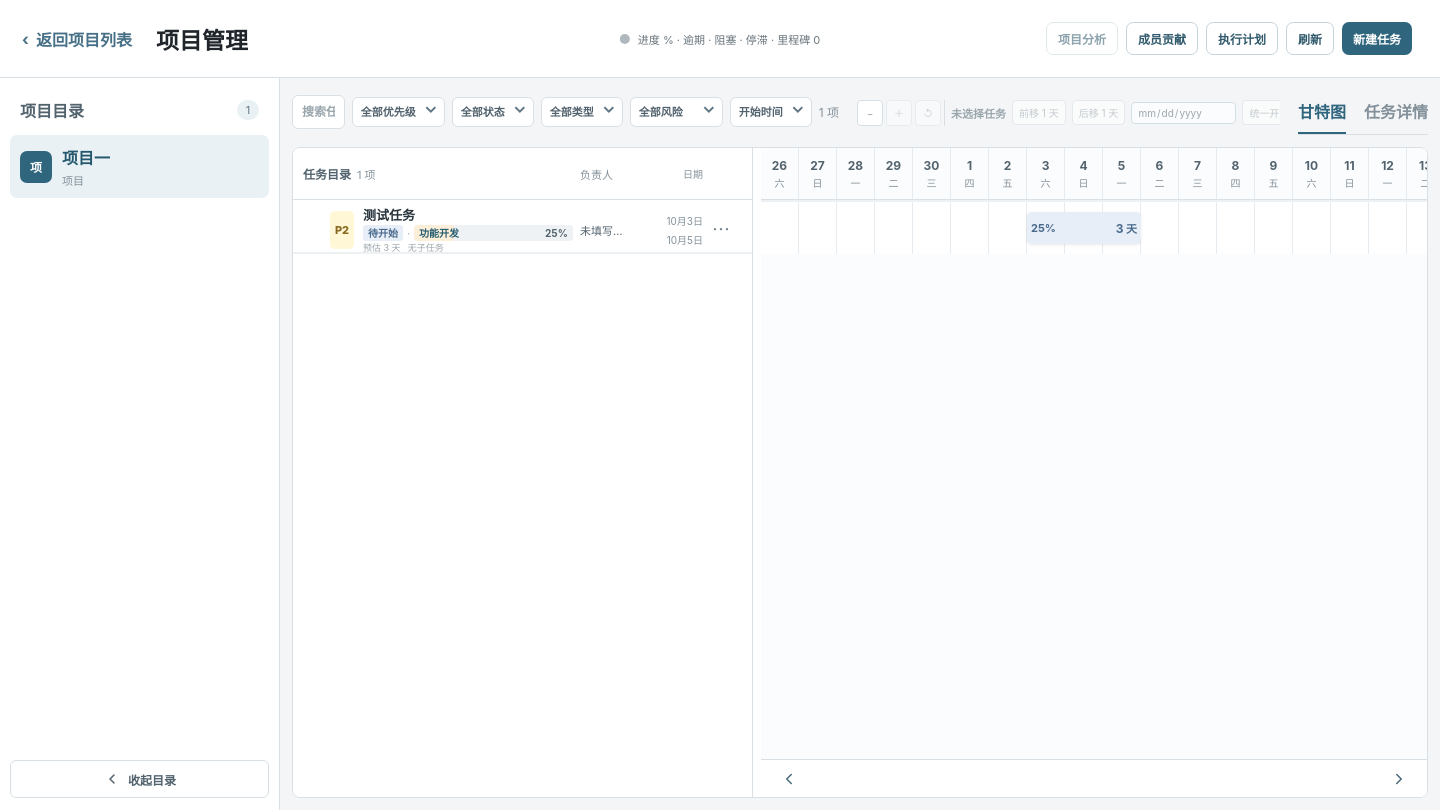
web app › opens an edit form from a task row menu with the current task values
Click the button named "任务操作 测试任务" at (720, 230), box [706, 216, 734, 244]
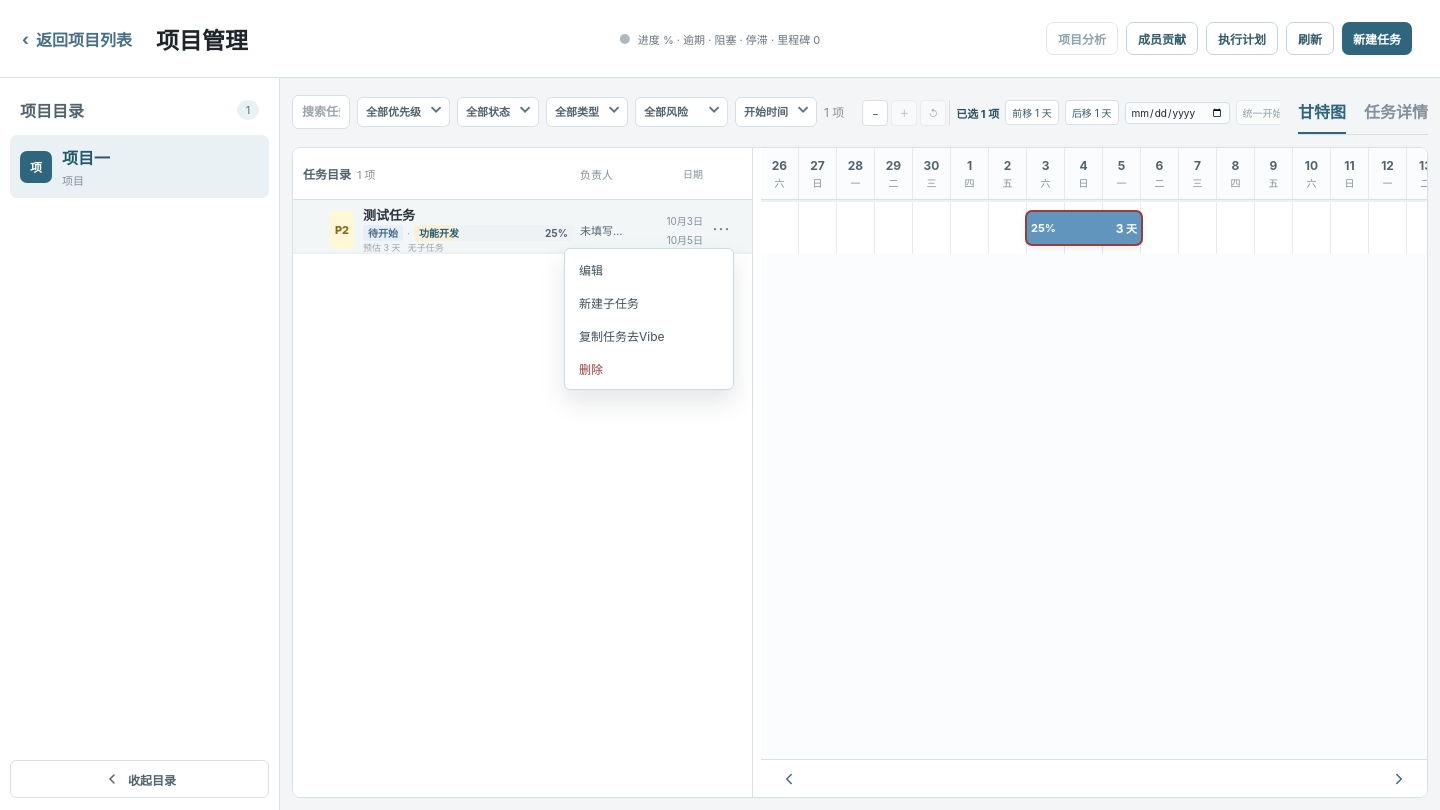
Click the menu item "编辑" at (649, 270), box [569, 253, 729, 286]
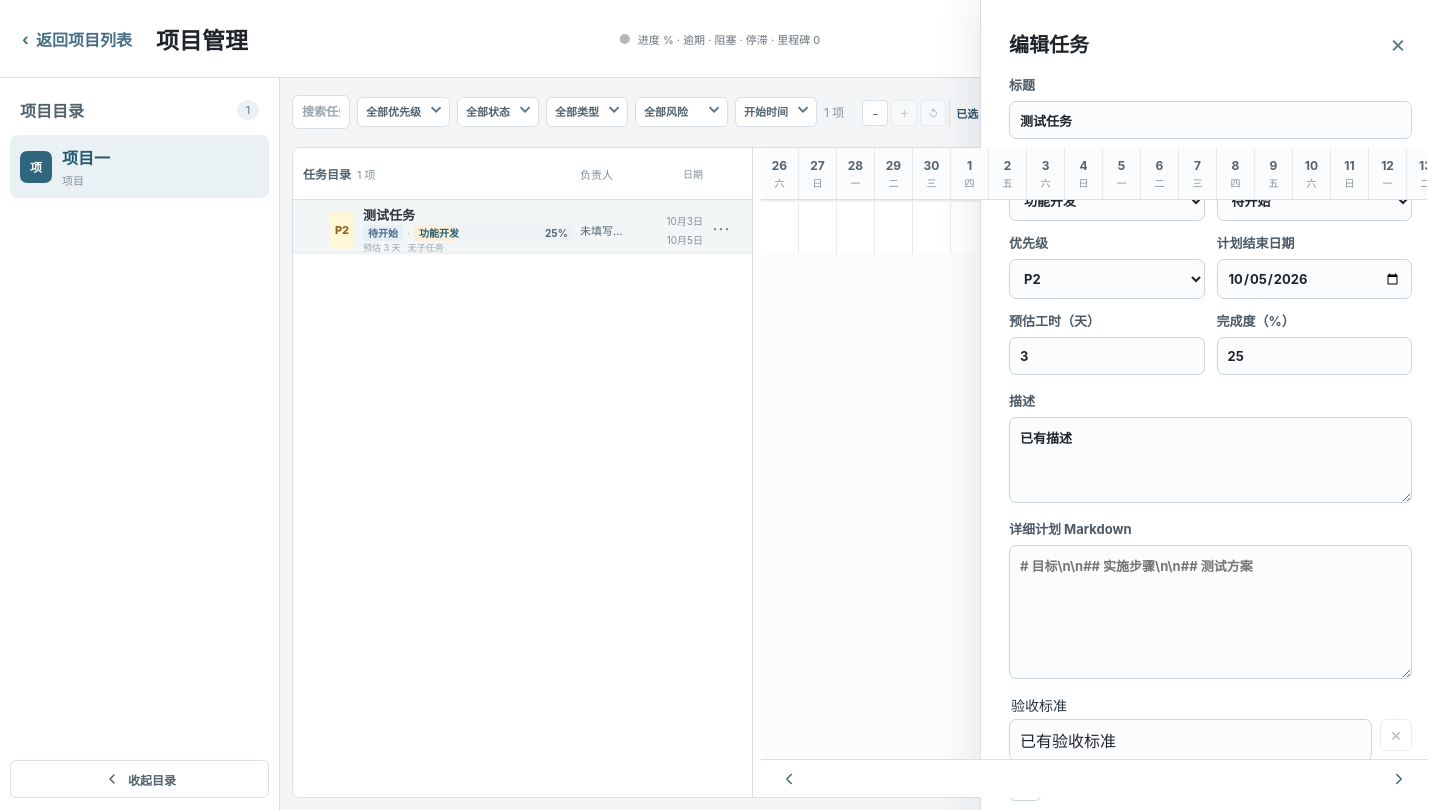
Check: the heading "编辑任务" is shown, box [1009, 29, 1089, 58]
Check: the field labelled "标题" holds "测试任务", box [1009, 101, 1412, 139]
Check: the text box labelled "描述" holds "已有描述", box [1009, 417, 1412, 503]
